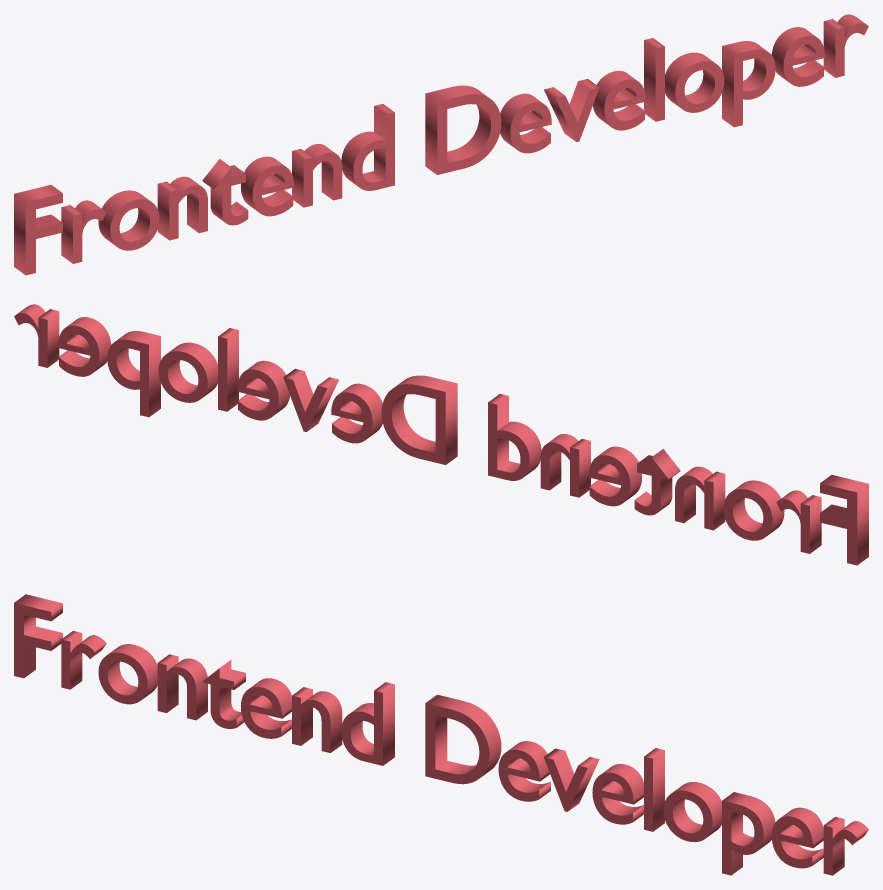
The model's file is job.glb.
3 renders of one model, top to bottom at view 1: azimuth 30°, elevation 25°; view 2: azimuth 150°, elevation 25°; view 3: azimuth 330°, elevation 25°, orthographic.
Parts seen in each view (by area): view 1: Text; view 2: Text; view 3: Text.
Part boxes in pixels (<box>): Text: <box>14,14,868,275</box>; Text: <box>14,304,868,565</box>; Text: <box>14,594,868,875</box>.
Size of the model in its own units: 8.23 by 0.912 by 0.2.
